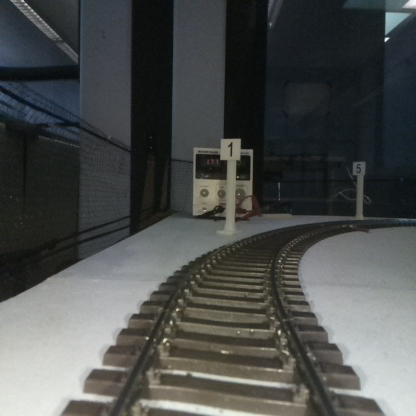white-info-1: (220, 137, 240, 232)
white-info-5: (353, 160, 364, 220)
